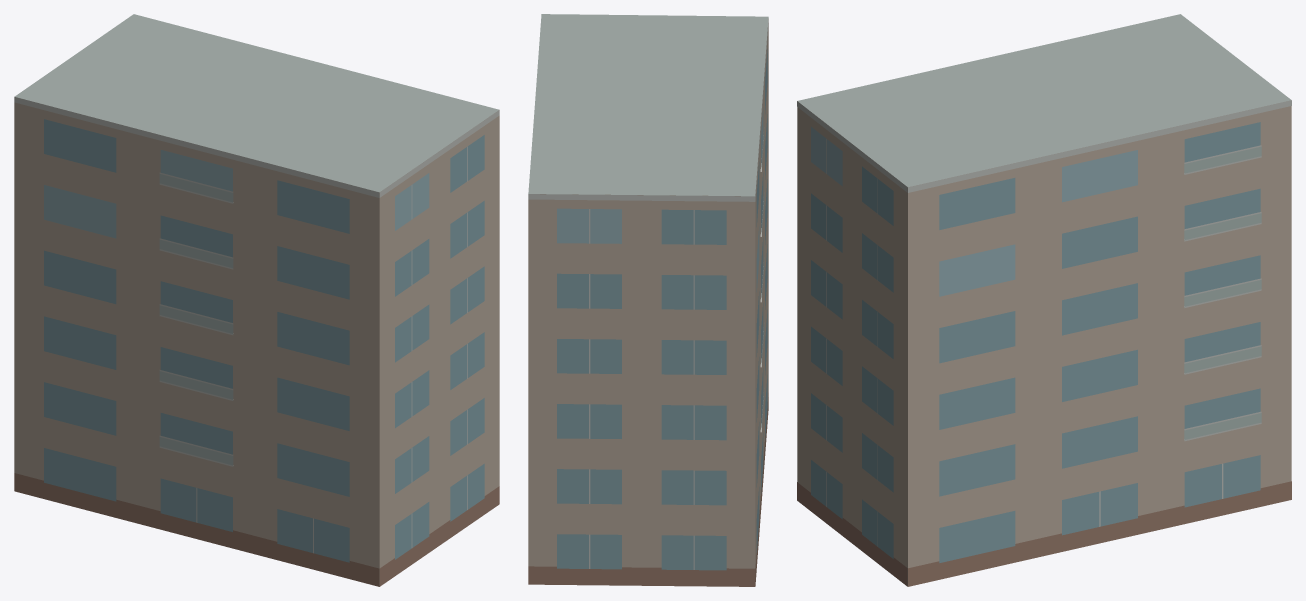
The model's file is survey-upis-33034536.glb.
3 views of the same model, side by side, from view 1: azimuth 30°, elevation 25°; view 2: azimuth 150°, elevation 25°; view 3: azimuth 270°, elevation 25° (orthographic). The views are drawn at different scales.
Visible parts, largest first — view 1: survey-upis-33034536.tmp; view 2: survey-upis-33034536.tmp; view 3: survey-upis-33034536.tmp.
Part boxes in pixels (bbox=[...]): survey-upis-33034536.tmp: bbox=[14, 14, 499, 586]; survey-upis-33034536.tmp: bbox=[528, 14, 768, 586]; survey-upis-33034536.tmp: bbox=[797, 14, 1291, 586].
Bounding box in the file's own units: 15.82 × 17 × 19.08.
